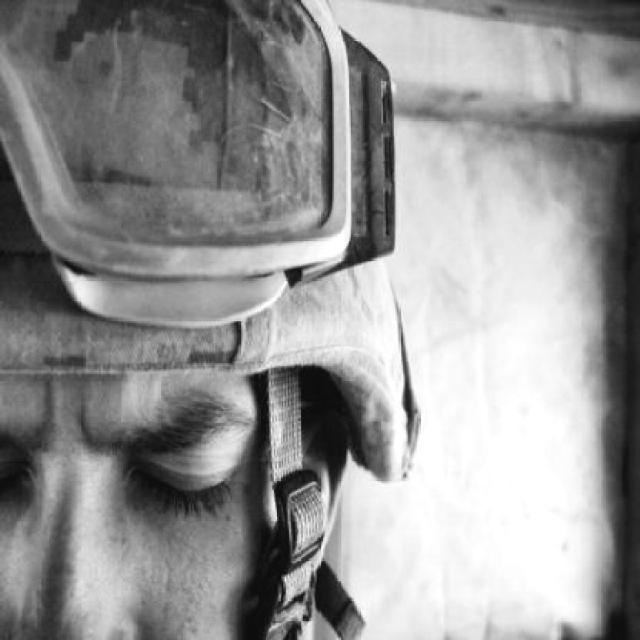glasses: (0, 0, 395, 327)
